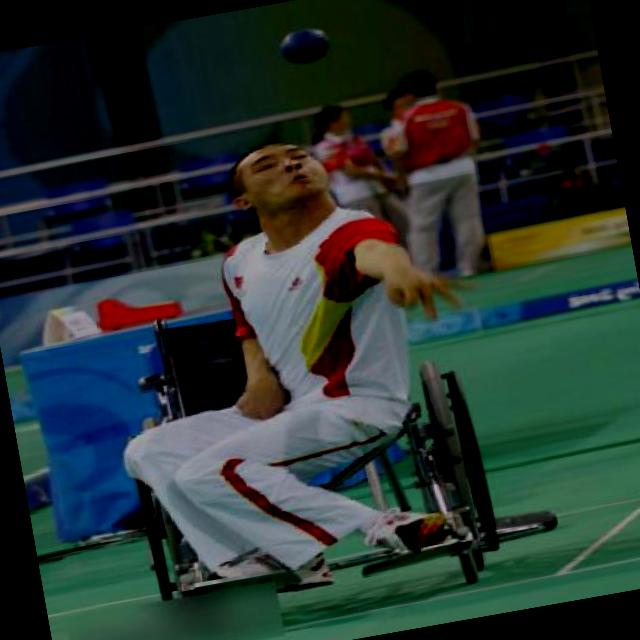Person: (126, 102, 478, 631)
